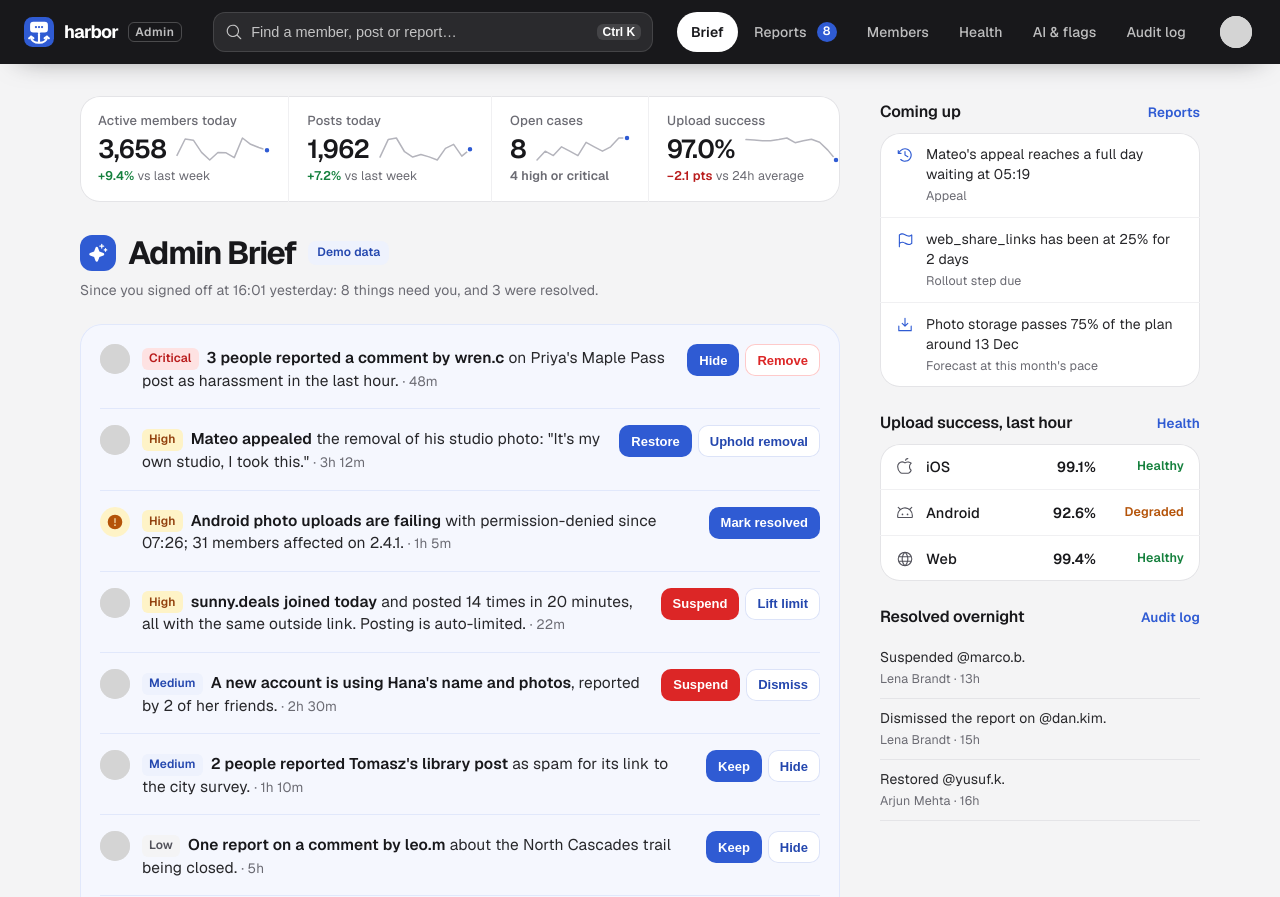
Test: the Brief resolves a line in place and Undo brings it back
Click the button with aria-label "Hide: Comment reported as harassment": coordinates (713, 360) [687,344,740,376]
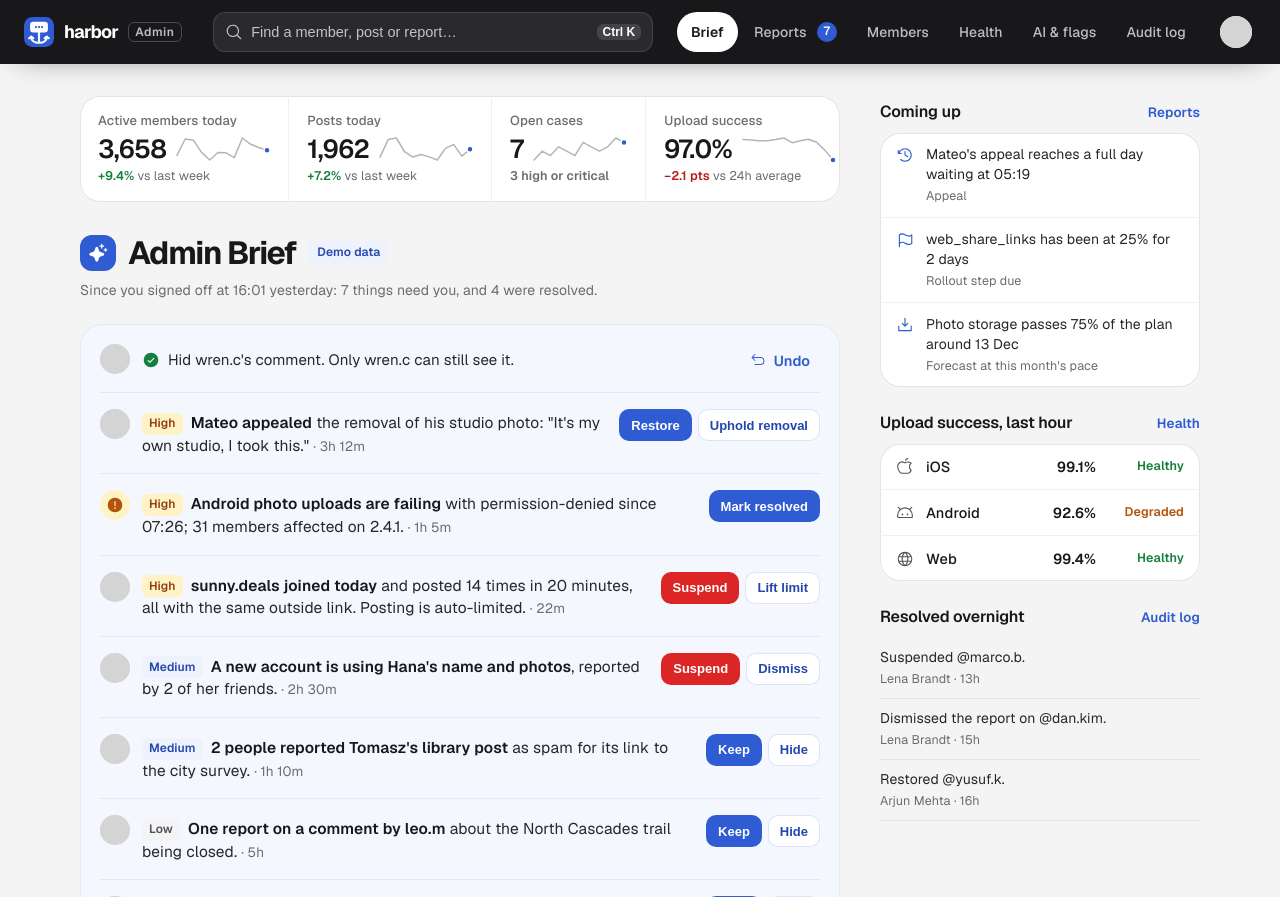
Check: the text "Hid wren.c's comment. Only wren.c can still see it." is shown, box [168,350,514,369]
Click the button "Undo": coordinates (782, 360) [744,344,820,376]
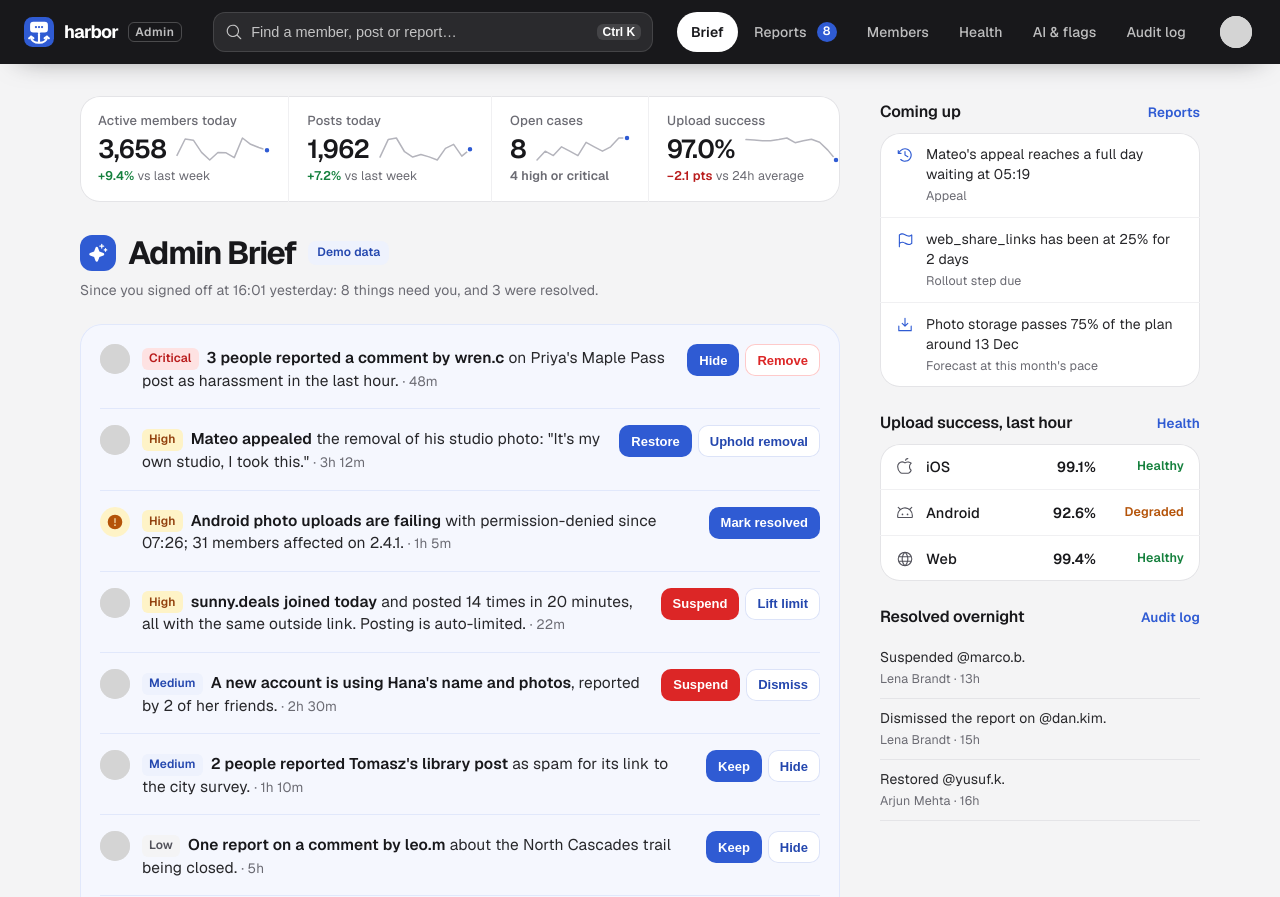
Check: the button with aria-label "Hide: Comment reported as harassment" is shown, box [687,344,740,376]
